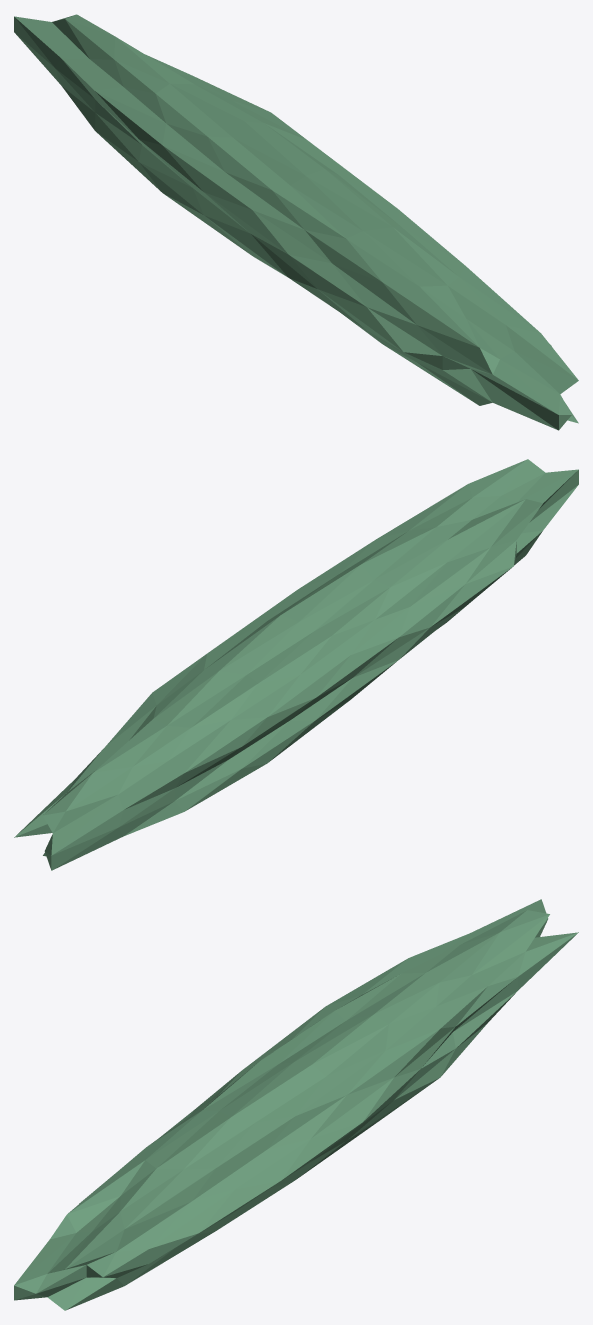
The model's file is Bana_Fern_Cluster.glb.
The picture shows the model from 3 angles, top to bottom: view 1: azimuth 30°, elevation 25°; view 2: azimuth 150°, elevation 25°; view 3: azimuth 330°, elevation 25°; orthographic projection. The views are drawn at different scales.
Visible parts, largest first — view 1: world; view 2: world; view 3: world.
Part boxes in pixels (x1,y1,x2,y2): world: [14, 14, 578, 430]; world: [14, 459, 578, 870]; world: [14, 899, 578, 1310].
Size of the model in its own units: 0.3789 by 0.2529 by 2.68.
